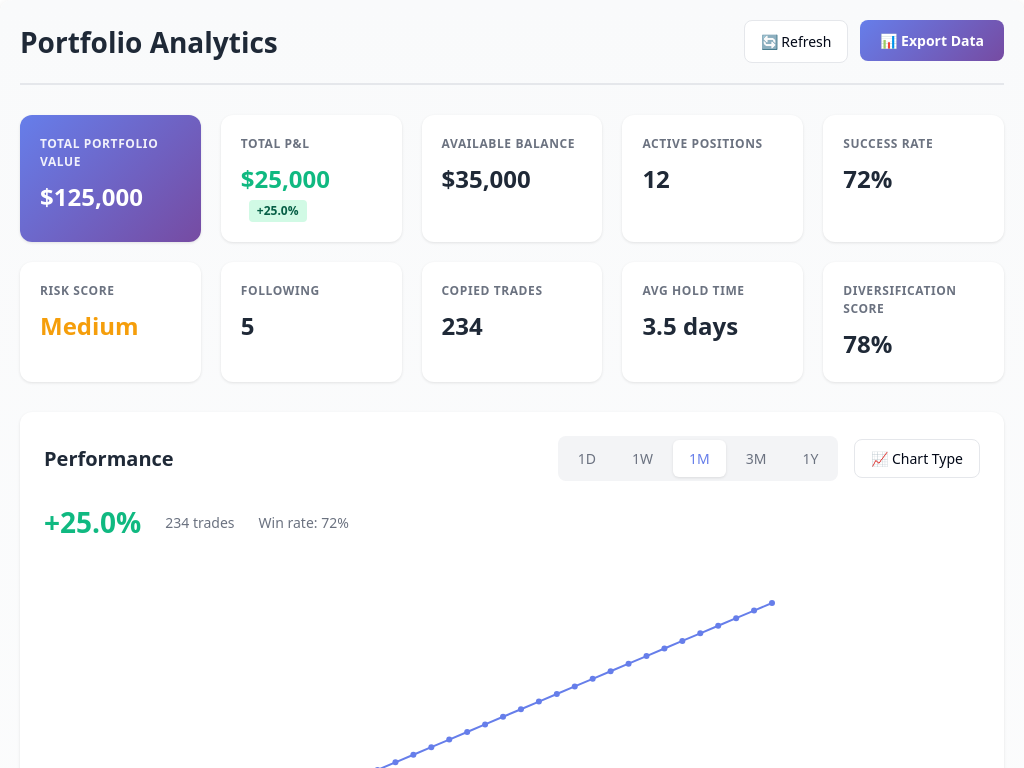
Test: PortfolioAnalytics › Export Functionality › should show export success message
Click the button "📊 Export Data" at (932, 40), box [860, 20, 1004, 61]
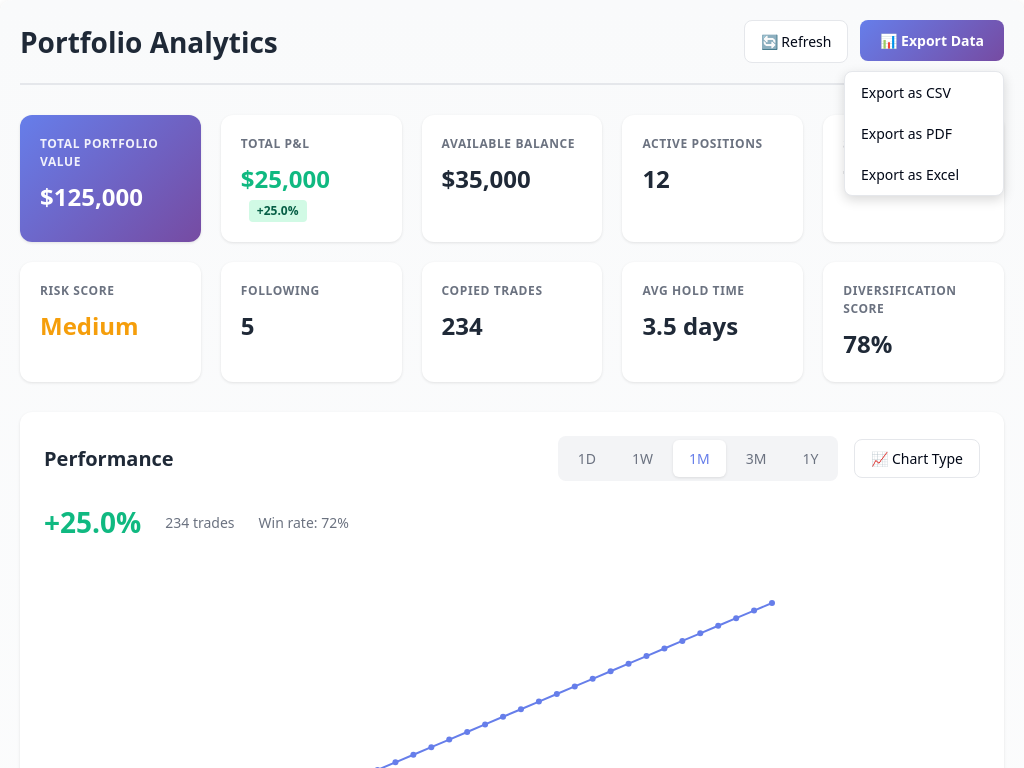
Click the button "Export as CSV" at (924, 92), box [845, 72, 1003, 113]
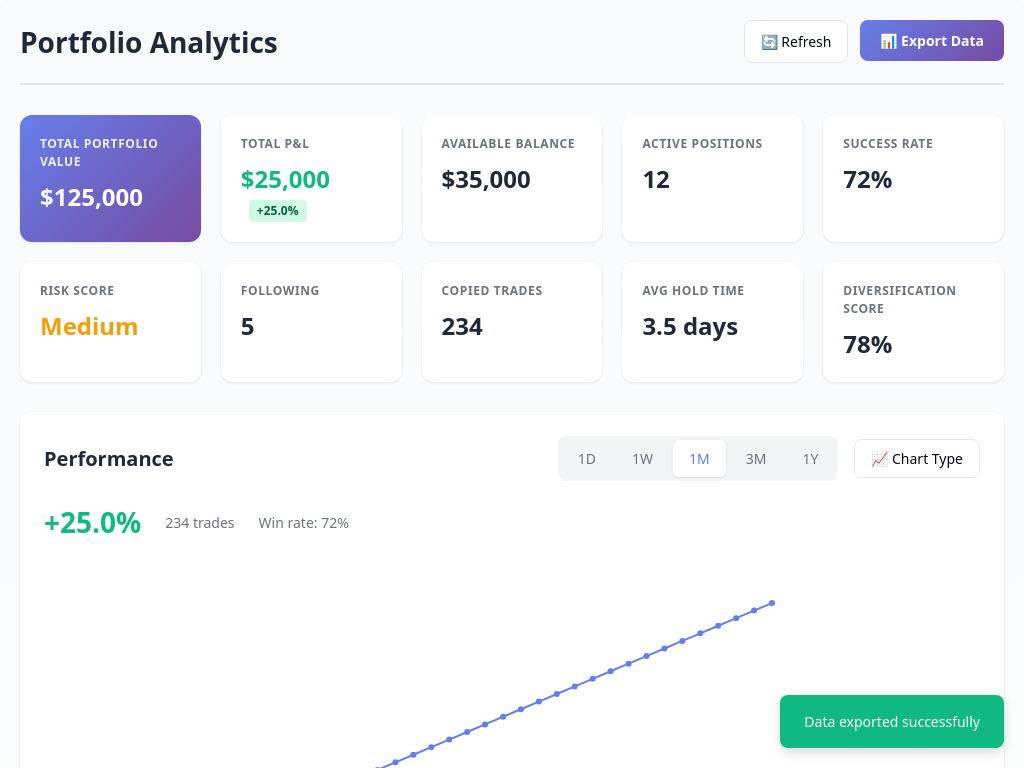
Check: the text "Data exported successfully" is shown, box [780, 695, 1004, 748]
